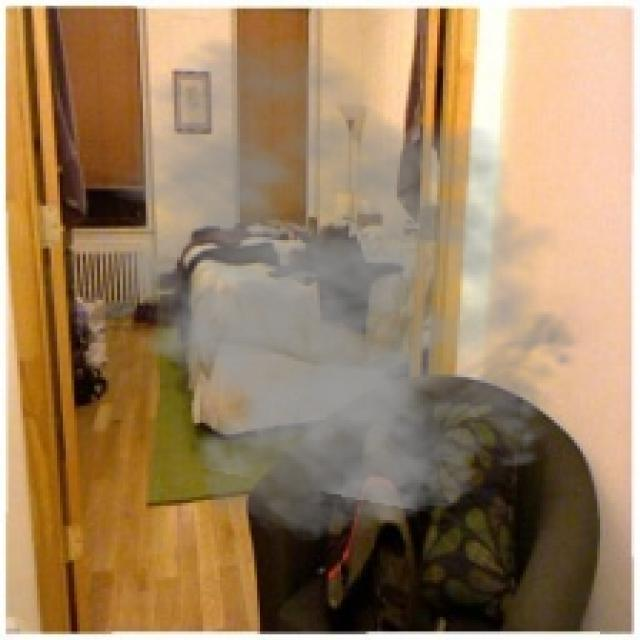Smoke: (63, 31, 600, 548)
